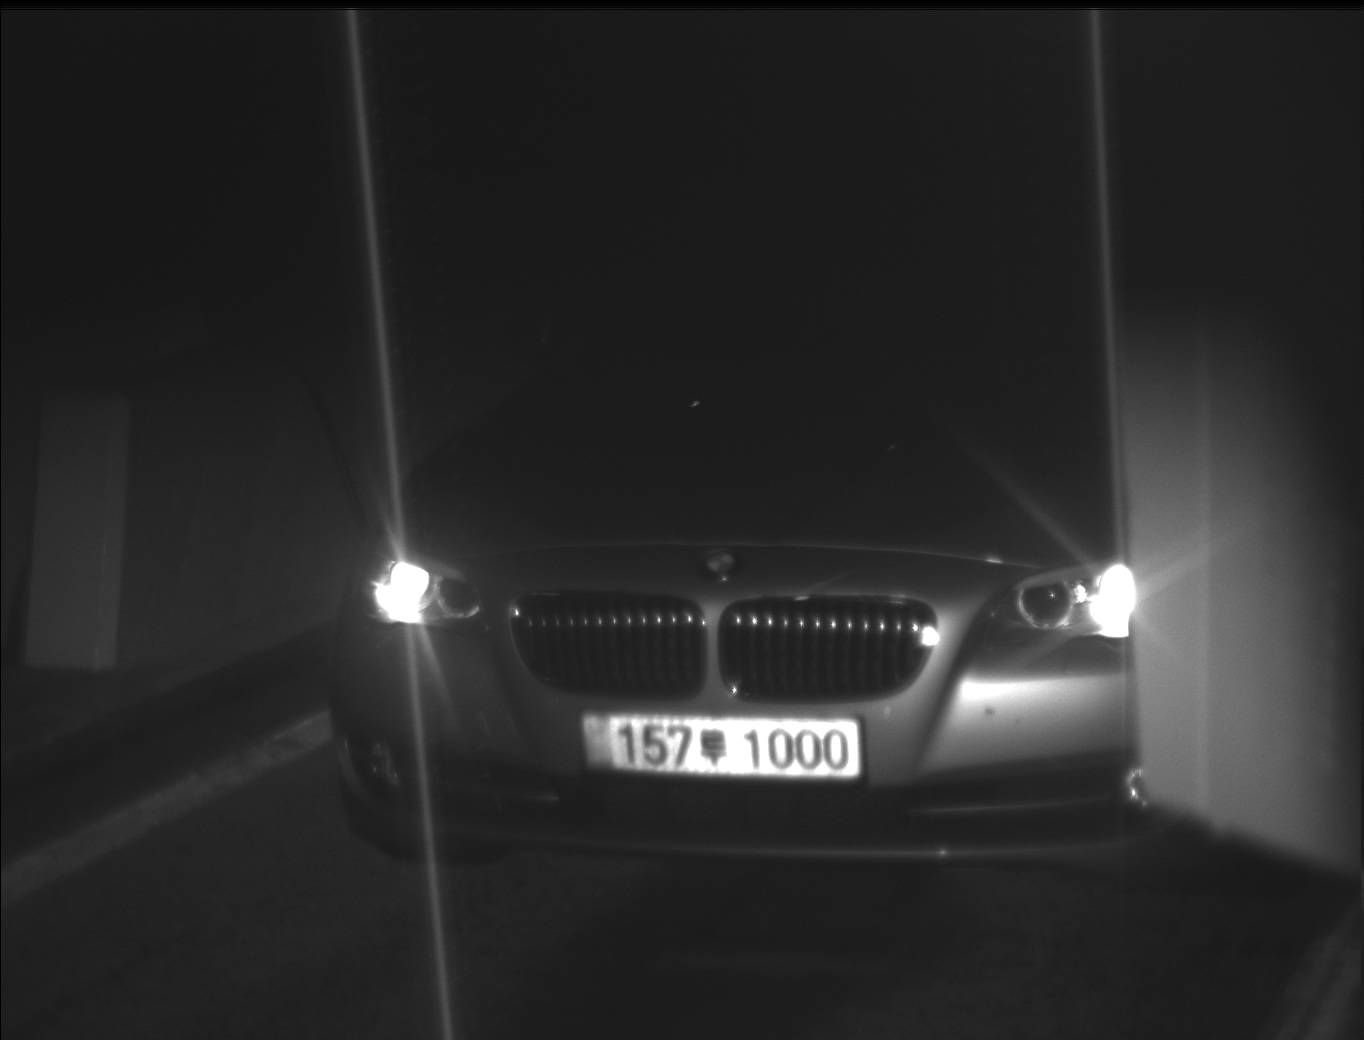car: (320, 212, 1138, 889)
plate: (572, 709, 863, 782)
